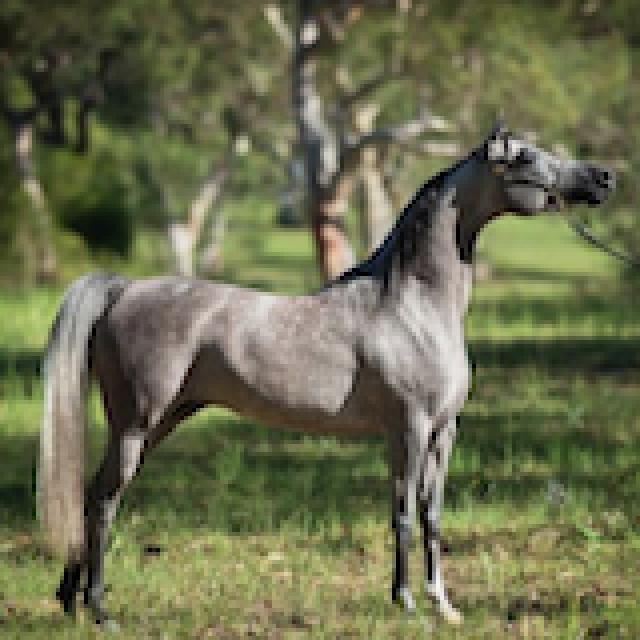Horse: (24, 112, 620, 632)
